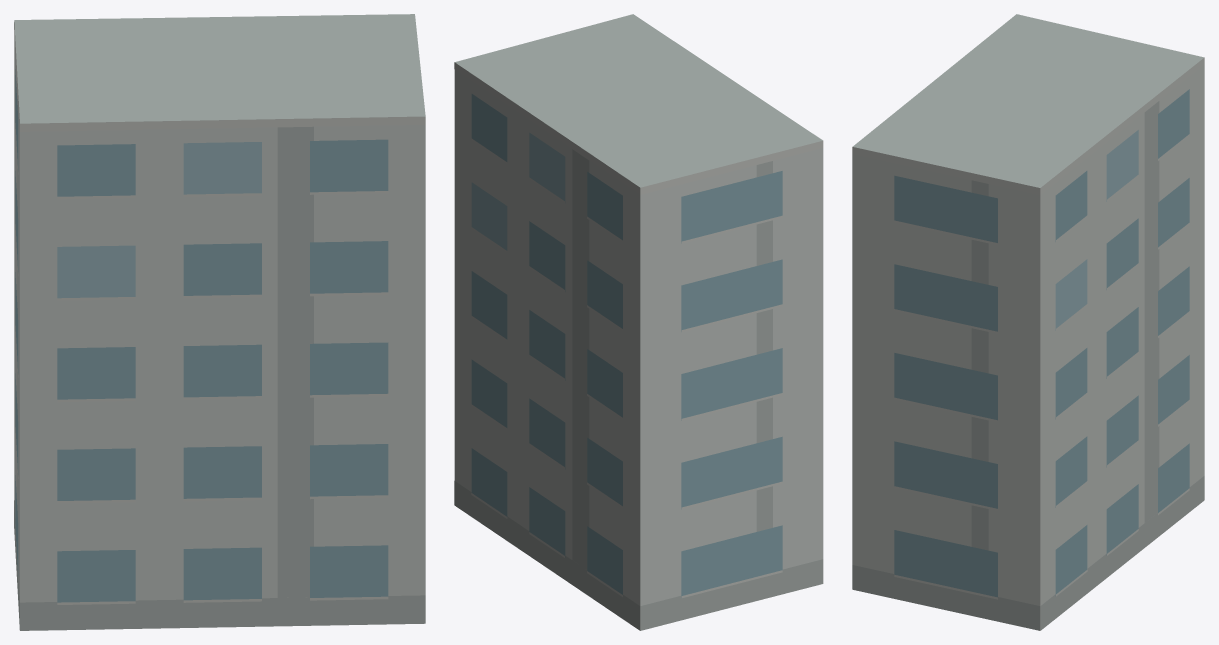
The model's file is survey-upis-32724581.glb.
The picture shows the model from 3 angles, left to right: view 1: azimuth 30°, elevation 25°; view 2: azimuth 150°, elevation 25°; view 3: azimuth 270°, elevation 25°; orthographic projection. The views are drawn at different scales.
Parts seen in each view (by area): view 1: survey-upis-32724581.tmp; view 2: survey-upis-32724581.tmp; view 3: survey-upis-32724581.tmp.
Part boxes in pixels (x1=…): survey-upis-32724581.tmp: x1=14, y1=14, x2=425, y2=630; survey-upis-32724581.tmp: x1=454, y1=14, x2=823, y2=630; survey-upis-32724581.tmp: x1=852, y1=14, x2=1204, y2=630.
Bounding box in the file's own units: 12.48 × 14.8 × 10.67.
